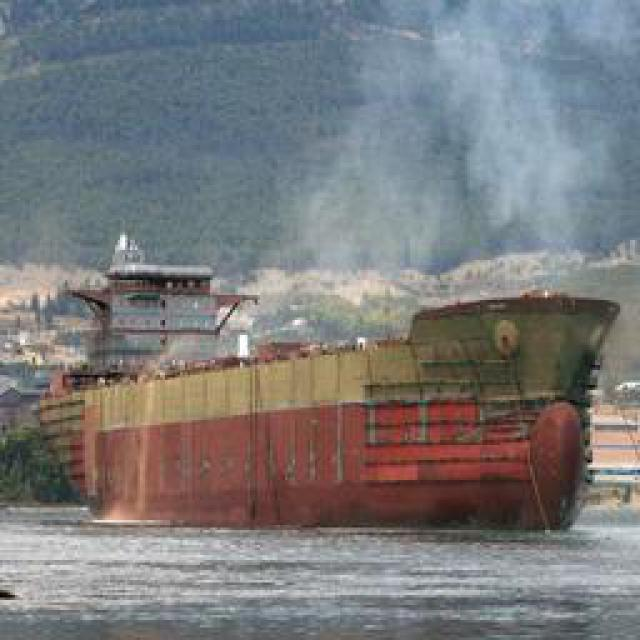Ship: (58, 286, 616, 539)
